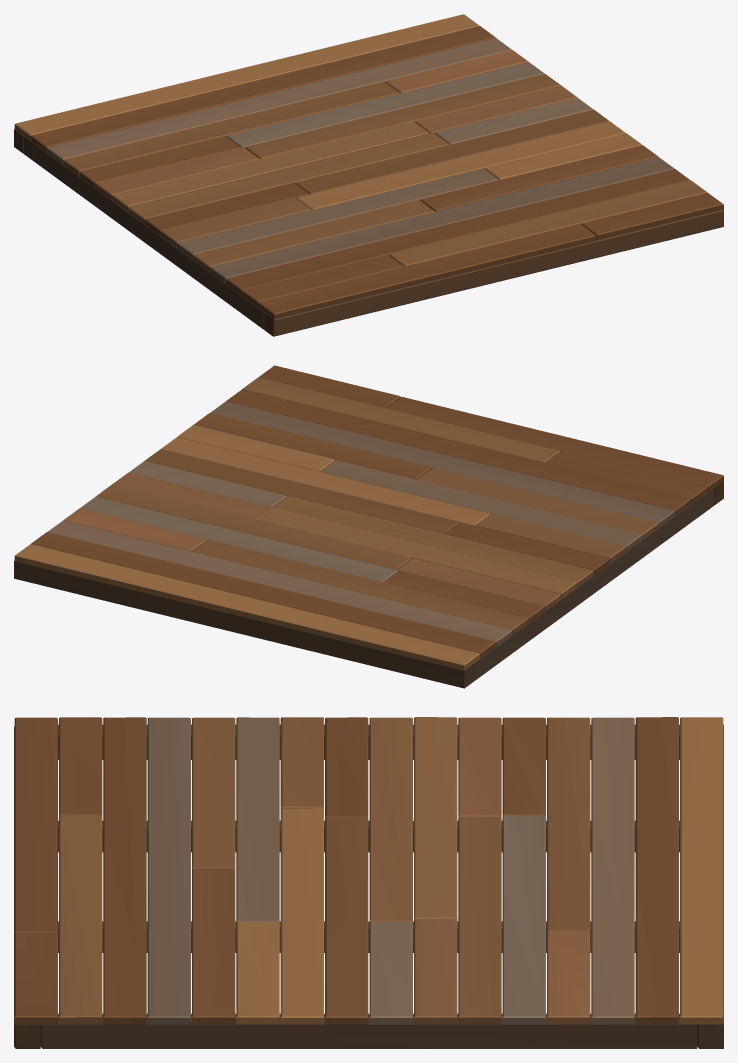
File: wood_floor_01.glb
The picture shows the model from 3 angles, top to bottom: view 1: azimuth 30°, elevation 25°; view 2: azimuth 150°, elevation 25°; view 3: azimuth 270°, elevation 25°; orthographic projection. The views are drawn at different scales.
Parts seen in each view (by area): view 1: wood_floor_01_body; view 2: wood_floor_01_body; view 3: wood_floor_01_body.
Boxes of the visible parts, <box> form: wood_floor_01_body: <box>14,14,723,336</box>; wood_floor_01_body: <box>14,365,723,688</box>; wood_floor_01_body: <box>14,717,723,1048</box>.
Bounding box in the file's own units: 4 × 0.2023 × 4.
